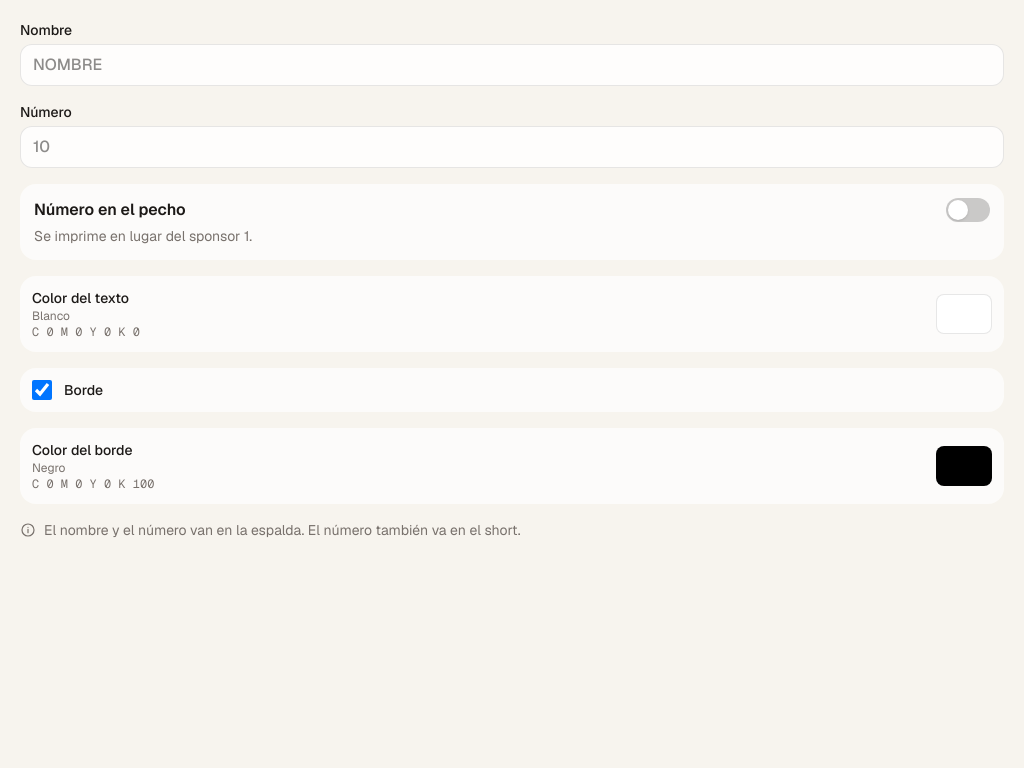
Scenario: TextPanel › offers the border's color only while there is a border, and sets it
The width and height of the screenshot is (1024, 768).
What coordinates should you click on to do the following:
click the button with aria-label "Color del borde:"
I would click on:
 (82, 450)
Its box is [20,428,1004,504].
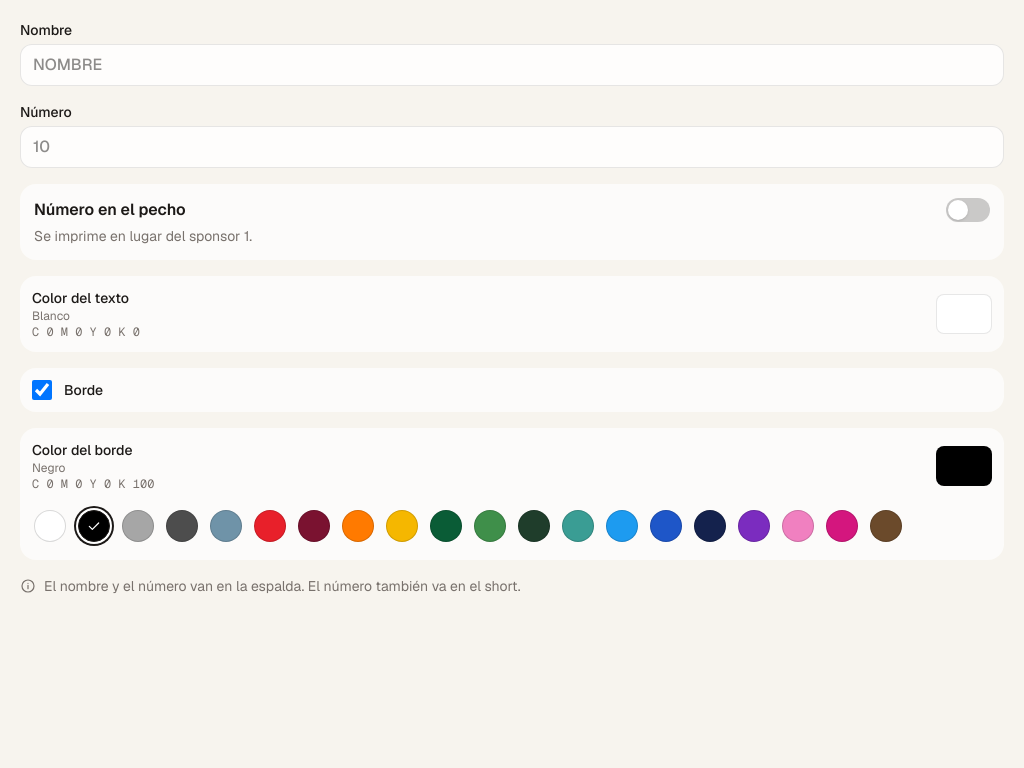
What coordinates should you click on to do the following:
click the radio button named "Rosa"
I would click on:
 (798, 526)
Its box is [776,504,820,548].
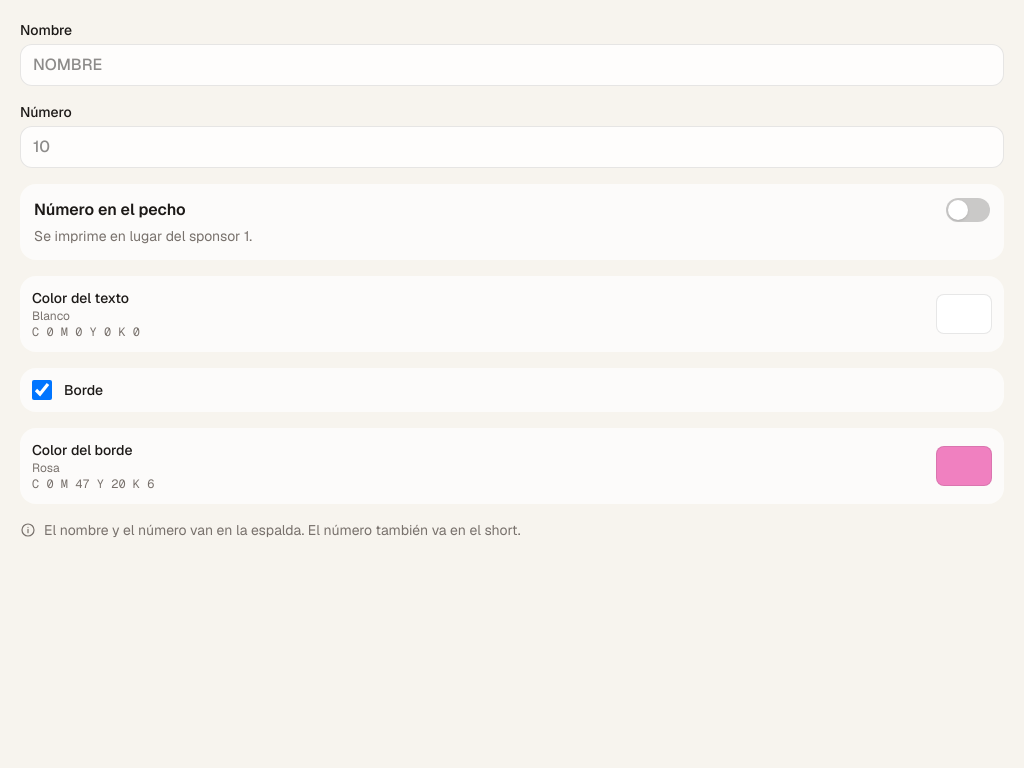
What coordinates should you click on to do the following:
click the checkbox labelled "Borde"
I would click on:
 (42, 390)
Its box is [32,380,52,400].
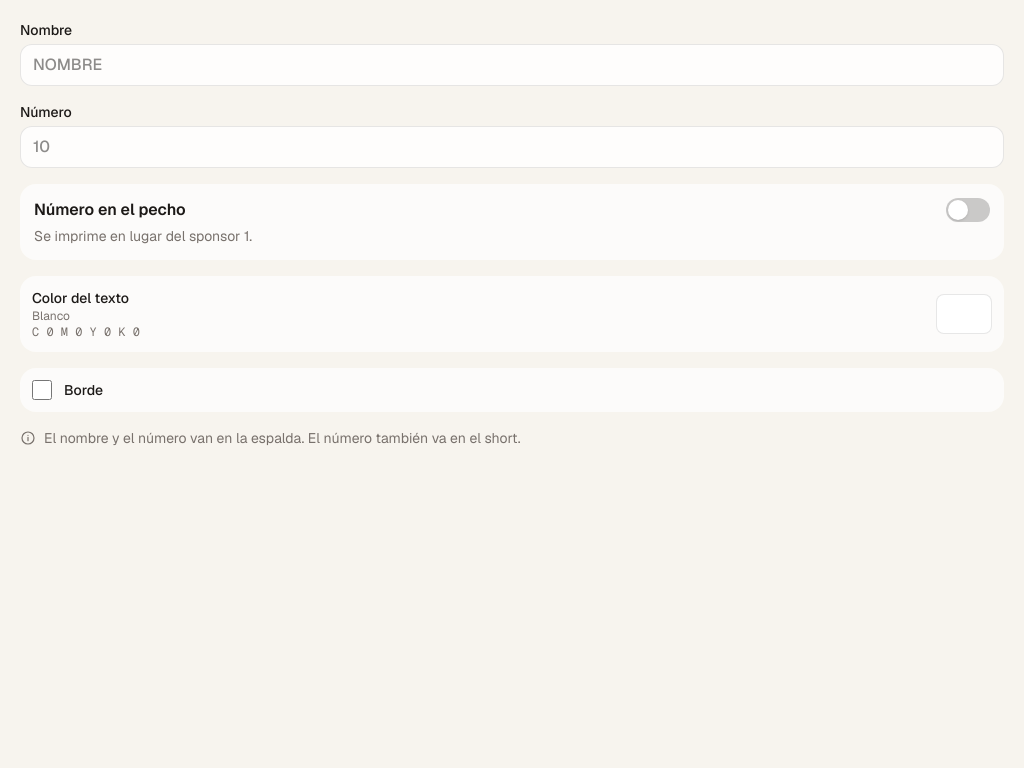
What coordinates should you click on to do the following:
click the checkbox labelled "Borde"
I would click on:
 (42, 390)
Its box is [32,380,52,400].
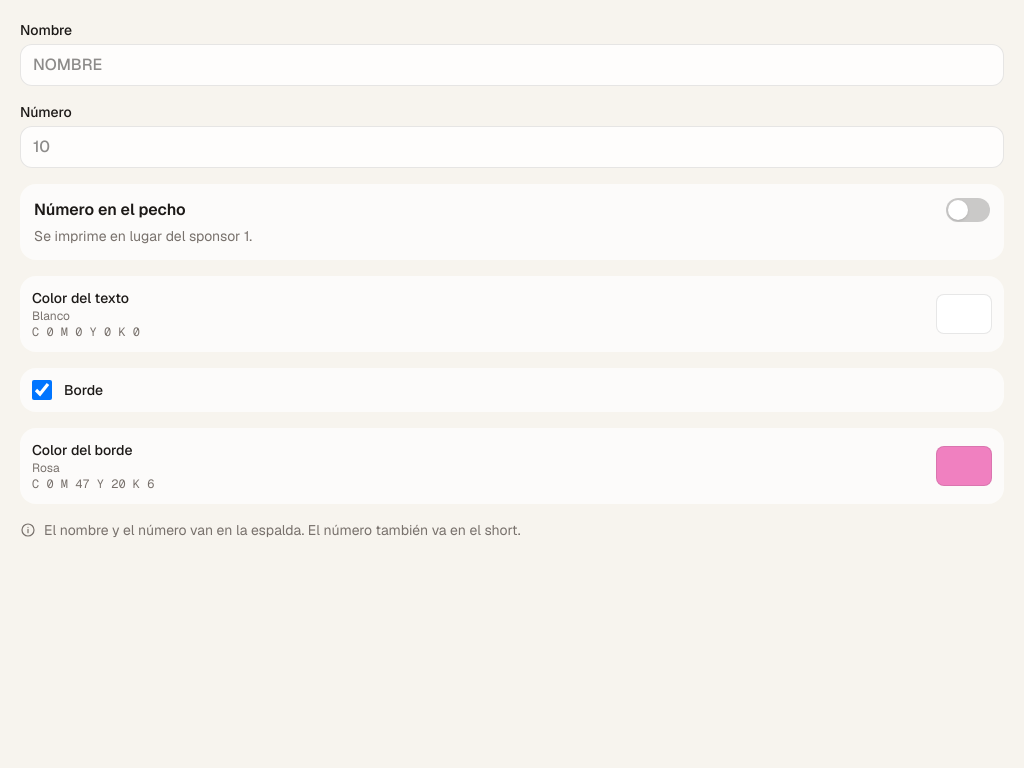
Result: the button with aria-label "Color del borde: Rosa" is shown at [20,428,1004,504]
